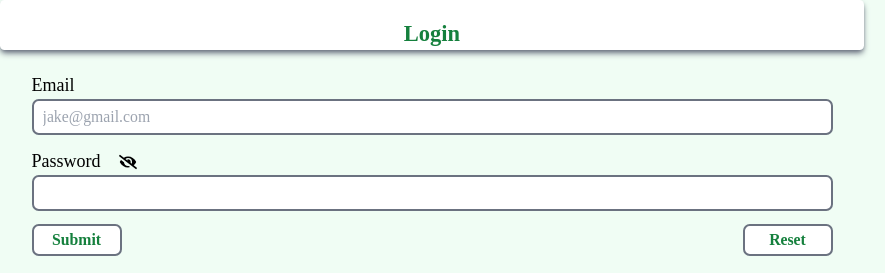
login form tests › form interactions › log user and redirect to homepage if input data is correct
Type "testmail@gmail.com" into the field labelled "Email" at (432, 117), box [32,99,832,134]
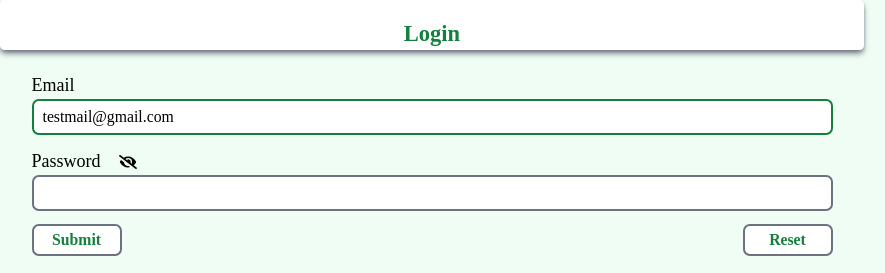
Type "Testpassword123@" into the password field labelled "Password" at (432, 193), box [32,175,832,210]
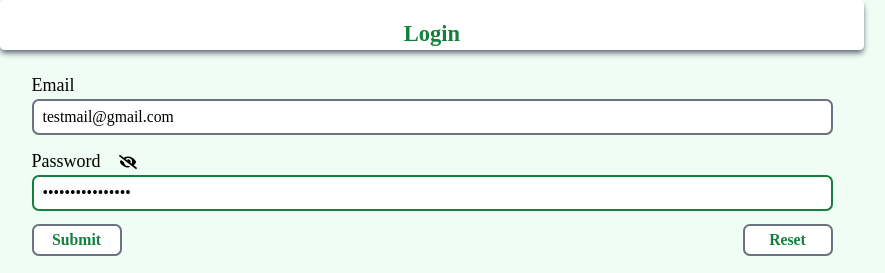
Click the button "Submit" at (76, 240), box [32,224,122,256]
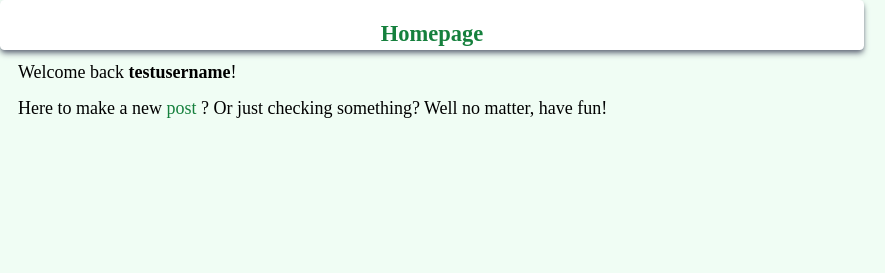
Result: the heading "Homepage" is shown at [381,21,483,46]
Result: the text "testusername" is shown at [128,62,230,82]
